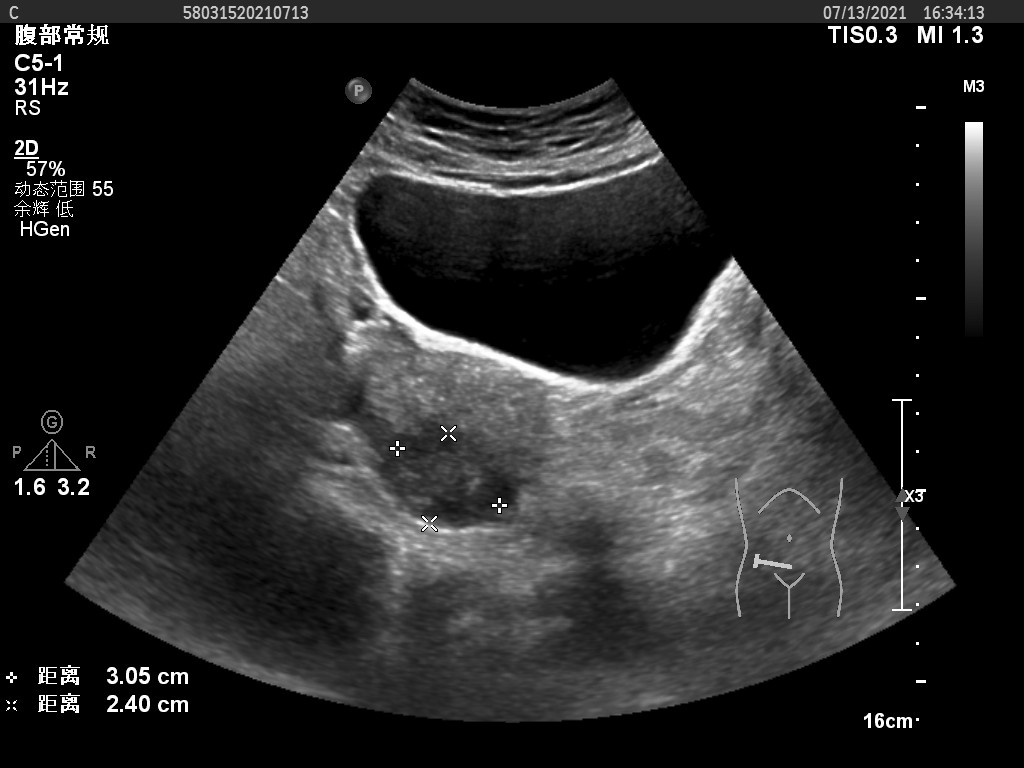肌瘤: (394, 433, 503, 526)
